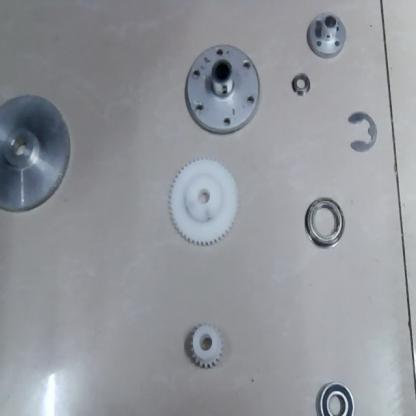FOD: (0, 97, 75, 219), (184, 40, 263, 138), (165, 158, 241, 254), (303, 192, 346, 252), (306, 9, 349, 63), (314, 381, 361, 415), (347, 108, 380, 155), (185, 320, 220, 363), (290, 70, 312, 100)
